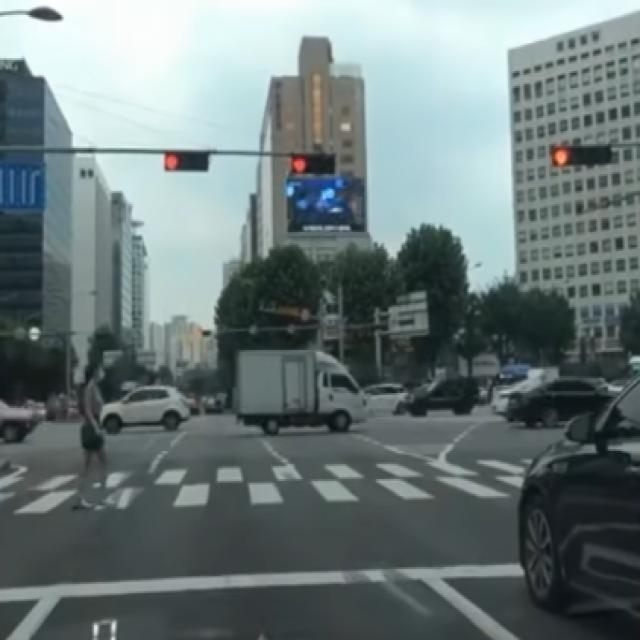Red Light: (552, 145, 570, 166), (291, 152, 308, 174), (164, 152, 180, 171)
